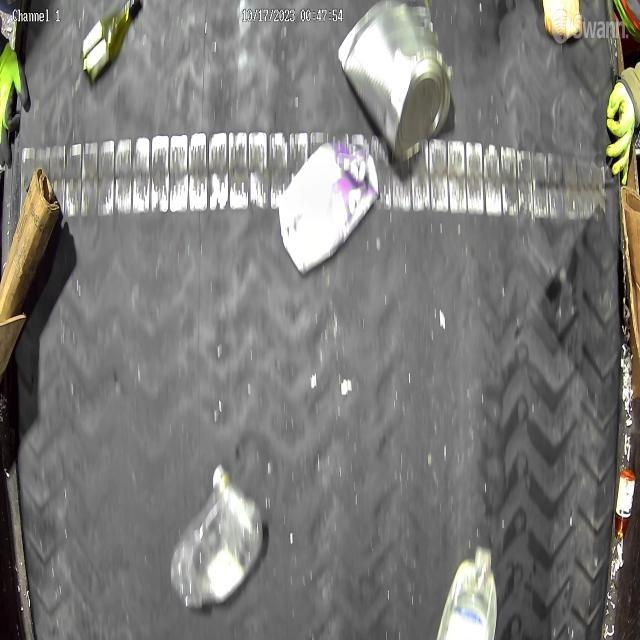non_white_jug: (278, 134, 380, 276)
plastic_bottle: (170, 466, 264, 608)
